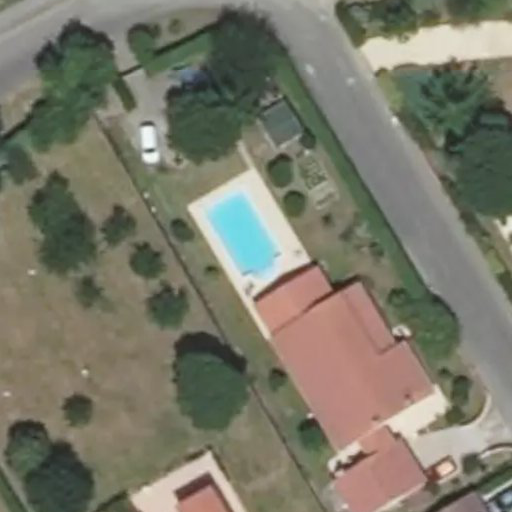pool: (211, 214, 301, 269)
